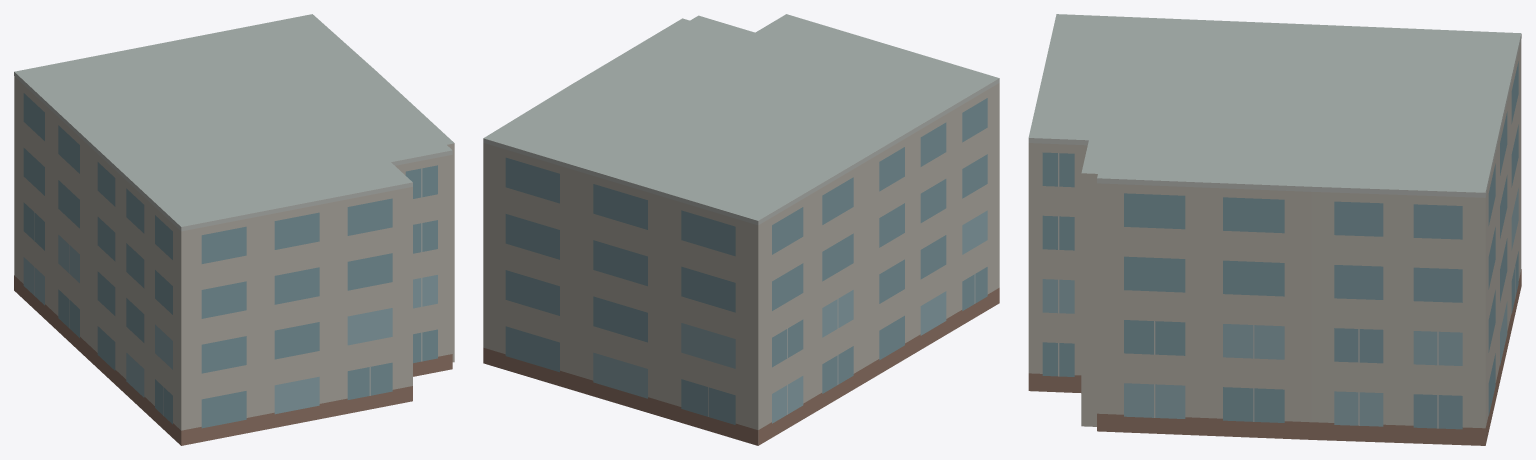
The model's file is survey-upis-32680884.glb.
3 views of the same model, side by side, from view 1: azimuth 30°, elevation 25°; view 2: azimuth 150°, elevation 25°; view 3: azimuth 270°, elevation 25° (orthographic). The views are drawn at different scales.
Parts seen in each view (by area): view 1: survey-upis-32680884.tmp; view 2: survey-upis-32680884.tmp; view 3: survey-upis-32680884.tmp.
Part boxes in pixels (left/top/right/bottom): survey-upis-32680884.tmp: left=14, top=14, right=454, bottom=445; survey-upis-32680884.tmp: left=483, top=14, right=999, bottom=445; survey-upis-32680884.tmp: left=1028, top=14, right=1521, bottom=445.
Size of the model in its own units: 18.49 by 12.2 by 21.55.
